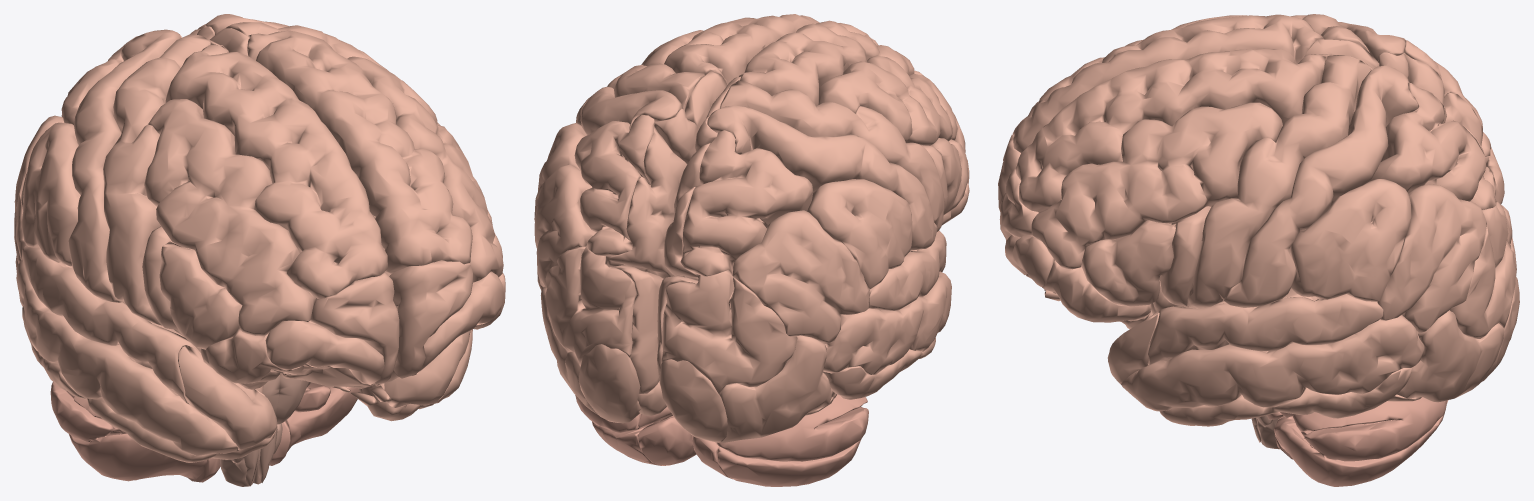
File: brain.glb
The picture shows the model from 3 angles, left to right: view 1: azimuth 30°, elevation 25°; view 2: azimuth 150°, elevation 25°; view 3: azimuth 270°, elevation 25°; orthographic projection. The views are drawn at different scales.
Visible parts, largest first — view 1: Frontal_lobe, Temporal_lobe, Parietal_lobe, Cerebellum, Brainstem; view 2: Parietal_lobe, Occipital_lobe, Frontal_lobe, Cerebellum, Temporal_lobe; view 3: Frontal_lobe, Parietal_lobe, Temporal_lobe, Occipital_lobe, Cerebellum, Brainstem.
Part boxes in pixels (bbox=[...]): Frontal_lobe: bbox=[103, 22, 505, 459]; Temporal_lobe: bbox=[16, 245, 472, 462]; Parietal_lobe: bbox=[14, 14, 388, 302]; Cerebellum: bbox=[50, 382, 359, 482]; Brainstem: bbox=[220, 375, 310, 486]; Parietal_lobe: bbox=[534, 86, 937, 343]; Occipital_lobe: bbox=[540, 245, 835, 442]; Frontal_lobe: bbox=[607, 14, 969, 231]; Cerebellum: bbox=[575, 394, 868, 486]; Temporal_lobe: bbox=[537, 230, 951, 399]; Frontal_lobe: bbox=[998, 14, 1379, 328]; Parietal_lobe: bbox=[1223, 22, 1496, 333]; Temporal_lobe: bbox=[1107, 288, 1424, 426]; Occipital_lobe: bbox=[1388, 148, 1519, 402]; Cerebellum: bbox=[1267, 397, 1448, 486]; Brainstem: bbox=[1251, 415, 1279, 449].
Bounding box in the file's own units: 1.63 × 1.74 × 2.
